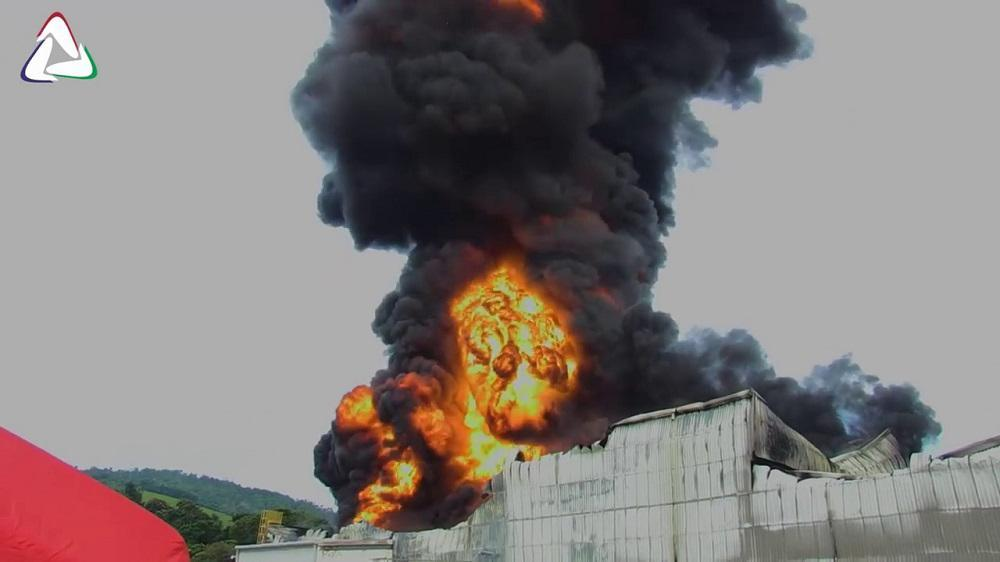Fire: (452, 267, 574, 483), (334, 374, 424, 532)
